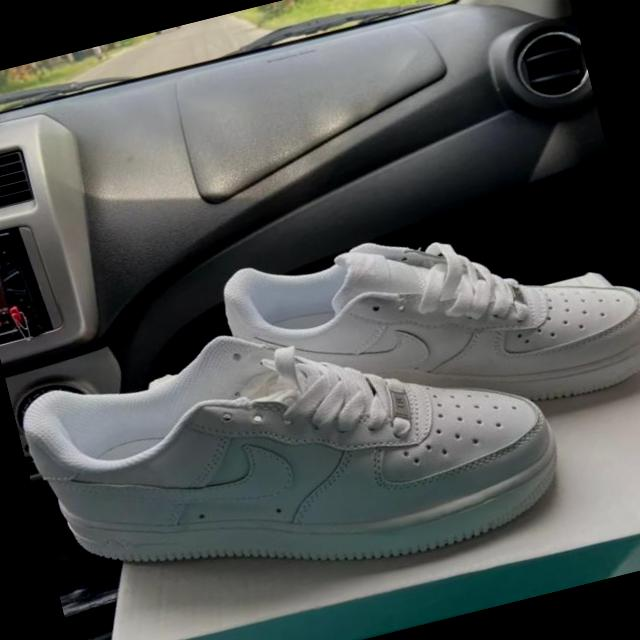nike_fake_airforce: (9, 259, 575, 640), (209, 173, 640, 478)
